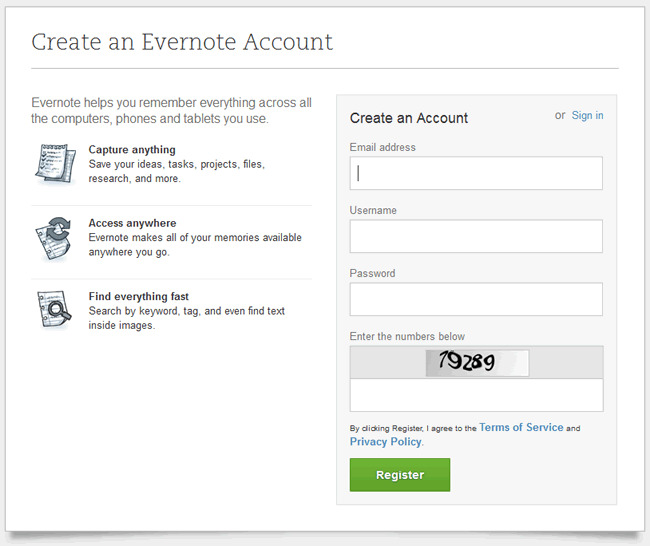_form_: (217, 97, 633, 514)
button: (349, 457, 450, 492)
field: (346, 155, 604, 191), (350, 377, 604, 412), (348, 219, 604, 253), (348, 282, 603, 316)
field_with_label: (345, 142, 607, 193), (346, 205, 607, 256), (346, 268, 605, 318)
